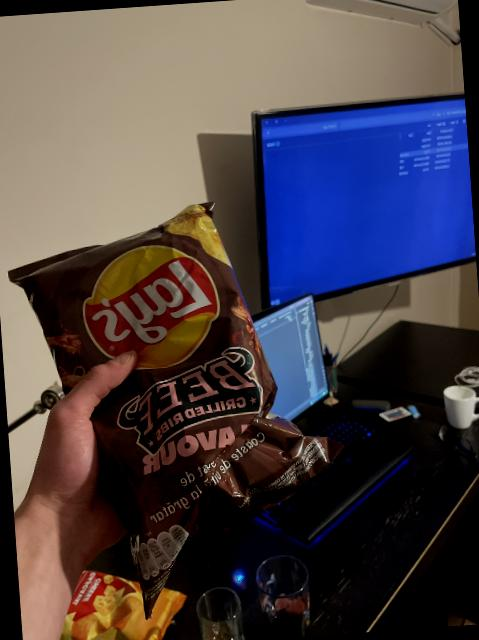Lays Beef Grilled Ribs 125g: (2, 192, 345, 615)
